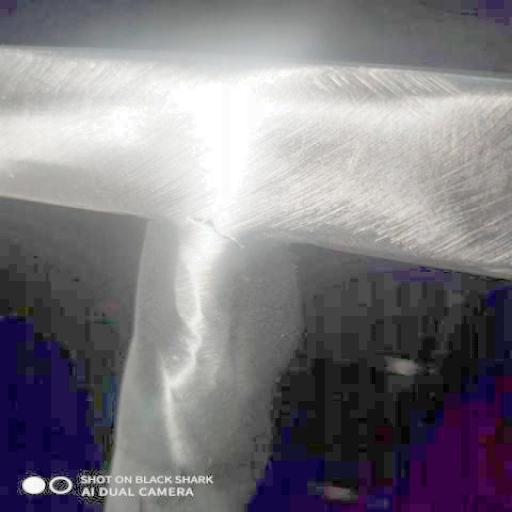crack: (194, 218, 243, 247)
